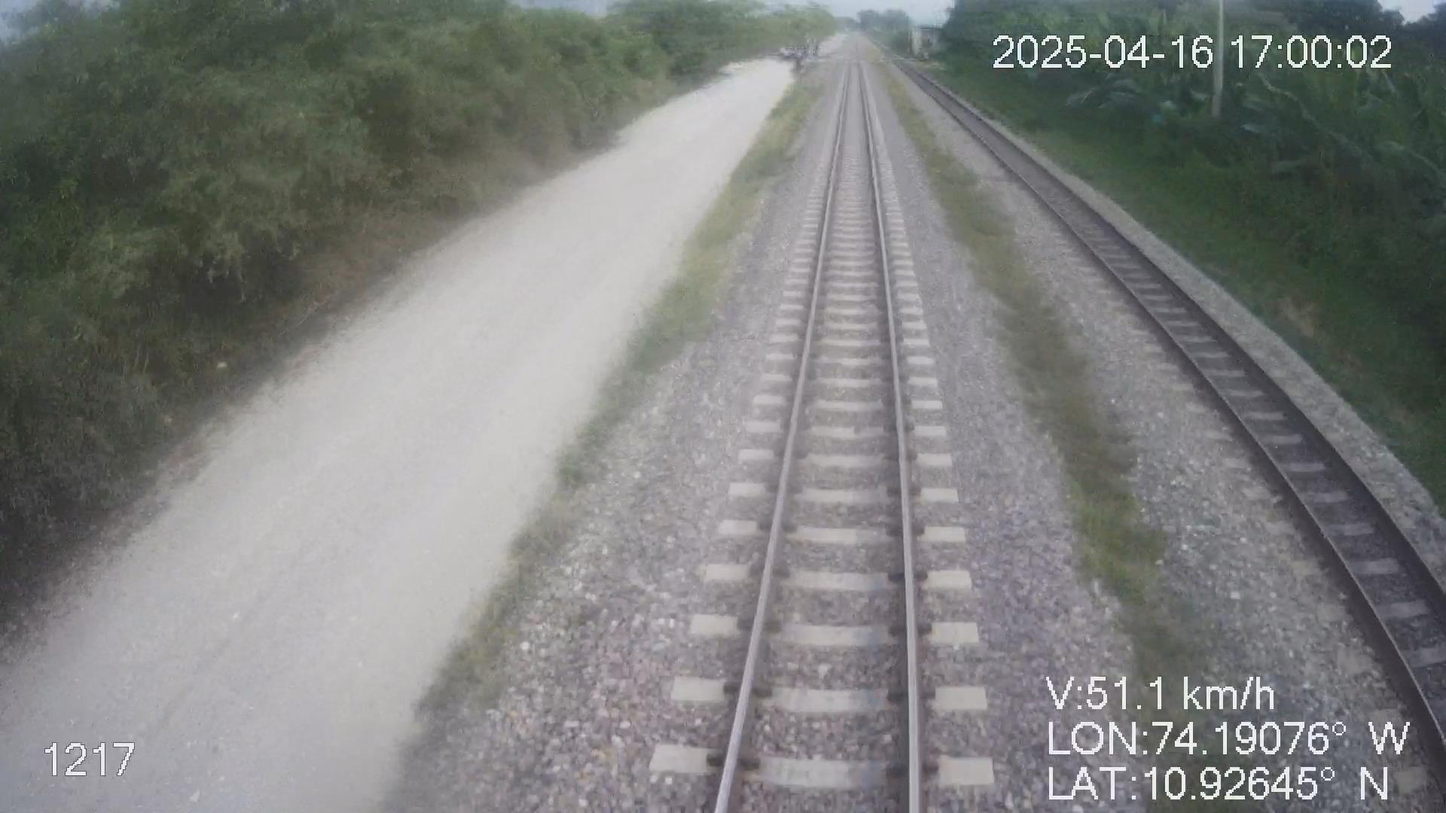Pasto: (0, 0, 835, 657), (855, 0, 1445, 513)
